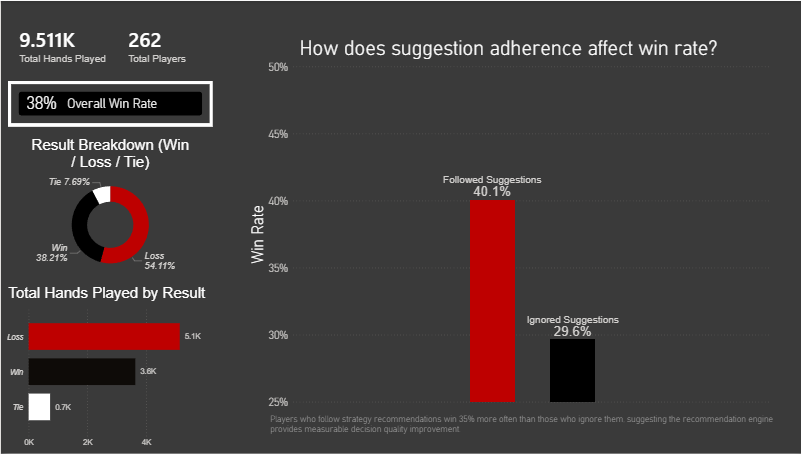

This screenshot's page, from the dashboard's own definition file:
{"tool":"powerbi","page":{"name":"Overview","canvas":[1280,720],"ordinal":0},"visuals":[{"type":"cardVisual","fields":{"Data":["CountNonNull(GameSessions.RecordID)"]},"box":[0,0,368.2,98.2],"z":0},{"type":"cardVisual","fields":{"Data":["Count(GameSessions.PlayerID)"]},"box":[190,0,150.9,98.2],"z":1000},{"type":"cardVisual","fields":{"Data":["GameSessions.Win Rate"]},"box":[1081.8,0,198.2,98.2],"z":2000},{"type":"donutChart","title":"Result Breakdown (Win / Loss / Tie)","fields":{"Category":["GameSessions.Result"],"Y":["CountNonNull(GameSessions.RecordID)"]},"box":[2.7,223.6,332.7,229.1],"z":3000},{"type":"clusteredBarChart","title":"Total Hands Played by Result","fields":{"Category":["GameSessions.Result"],"Y":["CountNonNull(GameSessions.RecordID)"]},"box":[938.2,203.6,336.4,269.1],"z":4000},{"type":"clusteredColumnChart","title":"How does suggestion adherence affect win rate?","fields":{"Y":["GameSessions.Win Rate Followed","GameSessions.Win Rate Ignored"]},"box":[340.9,20.9,597.3,580.9],"z":6000},{"type":"textbox","box":[340.9,625.5,597.3,50.9],"z":7000},{"type":"textbox","box":[368.2,586.4,419.1,39.1],"z":7001},{"type":"textbox","box":[17.3,83.6,333.6,43.6],"z":7002}]}

Visuals, with their boxes in screenshot pixels (x1, y1, x2, y2), scaled from the page's 1280x720 canvas onto the 801x454 screenshot:
cardVisual - CountNonNull(GameSessions.RecordID): (left=0, top=0, right=230, bottom=62)
cardVisual - Count(GameSessions.PlayerID): (left=119, top=0, right=213, bottom=62)
cardVisual - GameSessions.Win Rate: (left=677, top=0, right=800, bottom=62)
"Result Breakdown (Win / Loss / Tie)" donutChart: (left=2, top=141, right=210, bottom=285)
"Total Hands Played by Result" clusteredBarChart: (left=587, top=128, right=798, bottom=298)
"How does suggestion adherence affect win rate?" clusteredColumnChart: (left=213, top=13, right=587, bottom=379)
textbox: (left=213, top=394, right=587, bottom=427)
textbox: (left=230, top=370, right=493, bottom=394)
textbox: (left=11, top=53, right=220, bottom=80)
